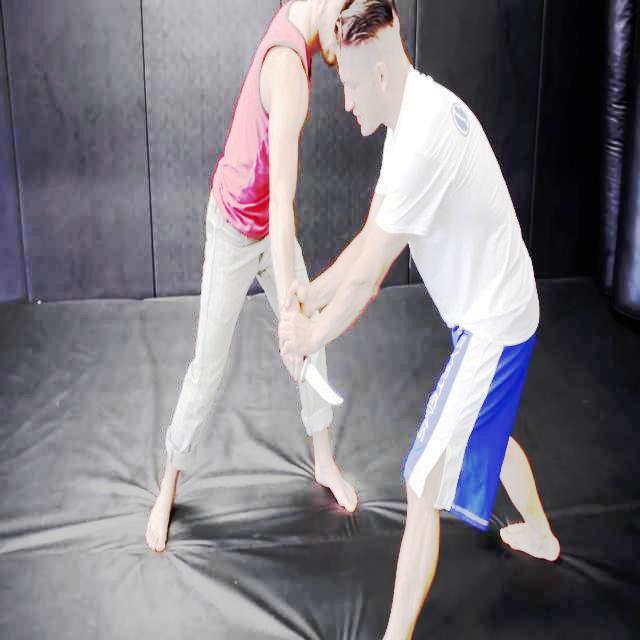Knife: (298, 359, 350, 408)
